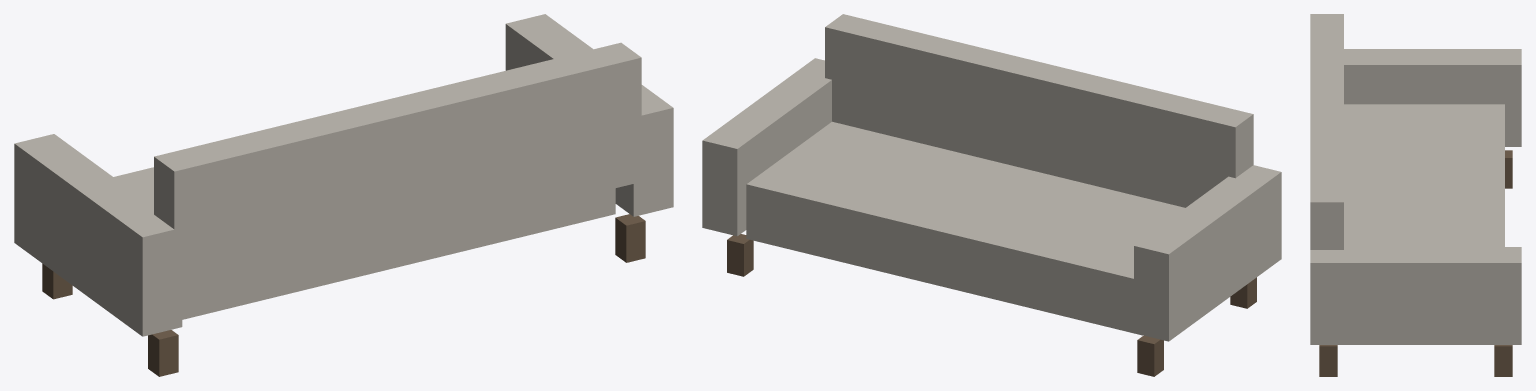
Rendered from catalog-sofa-oak-220.gltf.
The picture shows the model from 3 angles, left to right: view 1: azimuth 30°, elevation 25°; view 2: azimuth 150°, elevation 25°; view 3: azimuth 270°, elevation 25°; orthographic projection. The views are drawn at different scales.
Visible parts, largest first — view 1: Back, ArmL, Seat, ArmR, Leg11, Leg-11, Leg-1-1; view 2: Seat, Back, ArmL, ArmR, Leg1-1, Leg-1-1, Leg-11; view 3: Seat, ArmR, ArmL, Back, Leg1-1, Leg11, Leg-1-1.
Boxes of the visible parts, x1,y1,x2,y2 form: Back: [154, 42, 641, 295]; ArmL: [14, 134, 182, 336]; Seat: [113, 167, 615, 319]; ArmR: [505, 14, 673, 216]; Leg11: [615, 214, 645, 262]; Leg-11: [148, 330, 178, 376]; Leg-1-1: [42, 263, 72, 299]; Seat: [746, 121, 1184, 335]; Back: [825, 14, 1253, 207]; ArmL: [1134, 165, 1281, 341]; ArmR: [702, 58, 831, 236]; Leg1-1: [727, 234, 753, 276]; Leg-1-1: [1137, 335, 1163, 376]; Leg-11: [1230, 277, 1256, 308]; Seat: [1344, 104, 1504, 246]; ArmR: [1310, 247, 1521, 344]; ArmL: [1344, 49, 1521, 146]; Back: [1310, 14, 1343, 249]; Leg1-1: [1494, 345, 1512, 376]; Leg11: [1319, 345, 1337, 376]; Leg-1-1: [1505, 150, 1512, 188].
Size of the model in its own units: 2.2 by 0.82 by 0.92.
